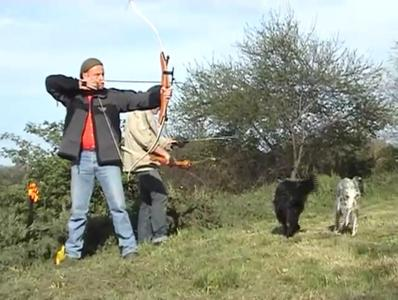person: (45, 58, 174, 261)
